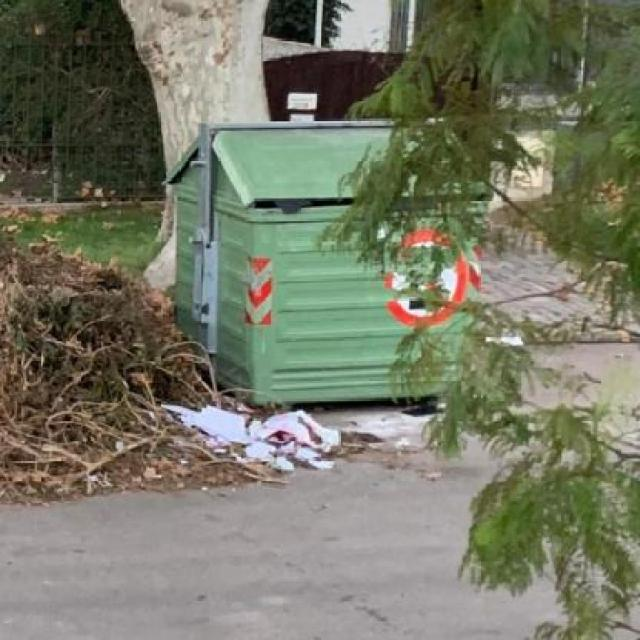garbage: (6, 271, 202, 471), (161, 388, 386, 498), (0, 181, 152, 263)
